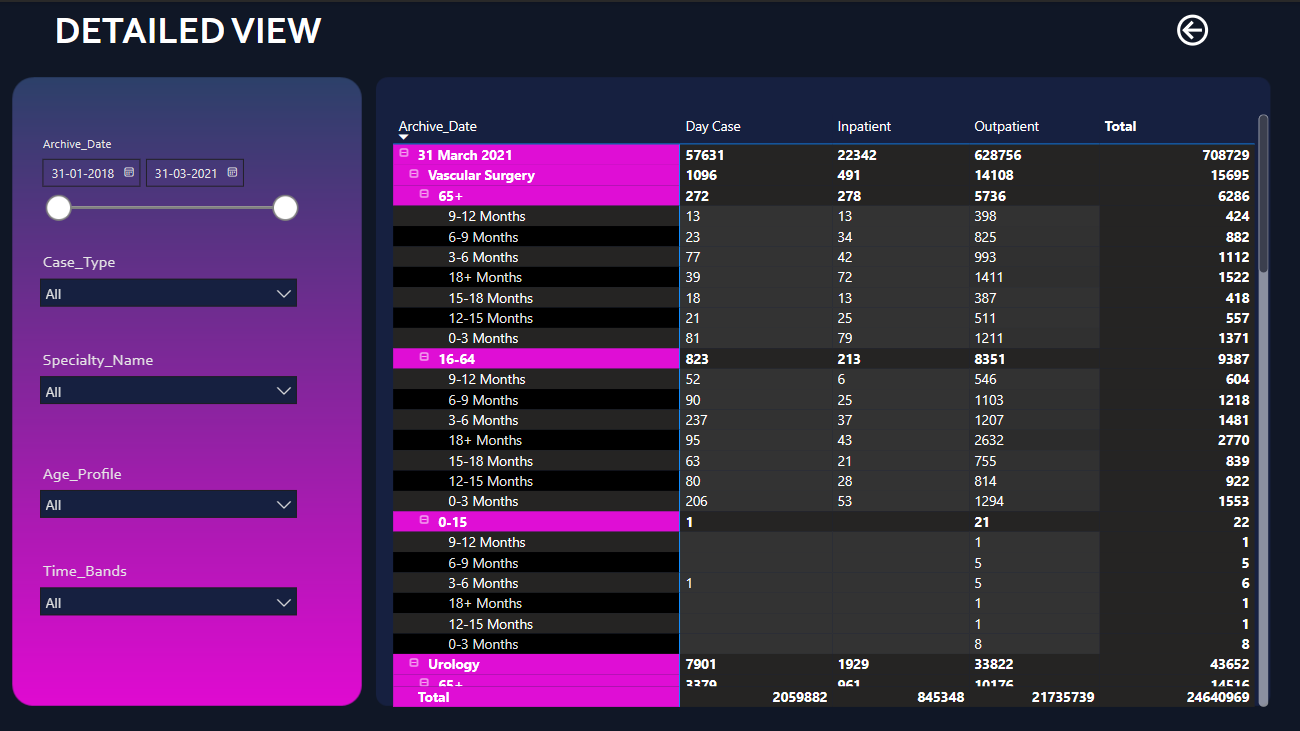

The page's visual inventory and layout, read from the dashboard file:
{"tool":"powerbi","page":{"name":"DETAIL","canvas":[1280,720],"ordinal":1},"visuals":[{"type":"slicer","fields":{"Values":["All_Data.Archive_Date"]},"box":[32,128,272,96],"z":0},{"type":"slicer","fields":{"Values":["All_Data.Case_Type"]},"box":[32,240,272,64],"z":1000},{"type":"slicer","fields":{"Values":["All_Data.Specialty_Name"]},"box":[32,336,272,64],"z":2000},{"type":"textbox","box":[0,0,375,95],"z":3000},{"type":"slicer","fields":{"Values":["All_Data.Age_Profile"]},"box":[32,448,272,64],"z":4000},{"type":"slicer","fields":{"Values":["All_Data.Time_Bands"]},"box":[32,544,272,64],"z":5000},{"type":"pivotTable","fields":{"Rows":["All_Data.Archive_Date","All_Data.Specialty_Name","All_Data.Age_Profile","All_Data.Time_Bands"],"Columns":["All_Data.Case_Type"],"Values":["Sum(All_Data.Total)"]},"box":[383.8,105,868.8,591.2],"z":6000},{"type":"actionButton","box":[1153.4,7.4,45.4,40.5],"z":7000}]}

Visuals, with their boxes in screenshot pixels (x1, y1, x2, y2), scaled from the page's 1280x720 canvas onto the 1300x731 screenshot:
slicer - All_Data.Archive_Date: bbox(32, 130, 309, 227)
slicer - All_Data.Case_Type: bbox(32, 244, 309, 309)
slicer - All_Data.Specialty_Name: bbox(32, 341, 309, 406)
textbox: bbox(0, 0, 381, 96)
slicer - All_Data.Age_Profile: bbox(32, 455, 309, 520)
slicer - All_Data.Time_Bands: bbox(32, 552, 309, 617)
pivotTable - All_Data.Archive_Date x All_Data.Specialty_Name: bbox(390, 107, 1272, 707)
actionButton: bbox(1171, 8, 1218, 49)
